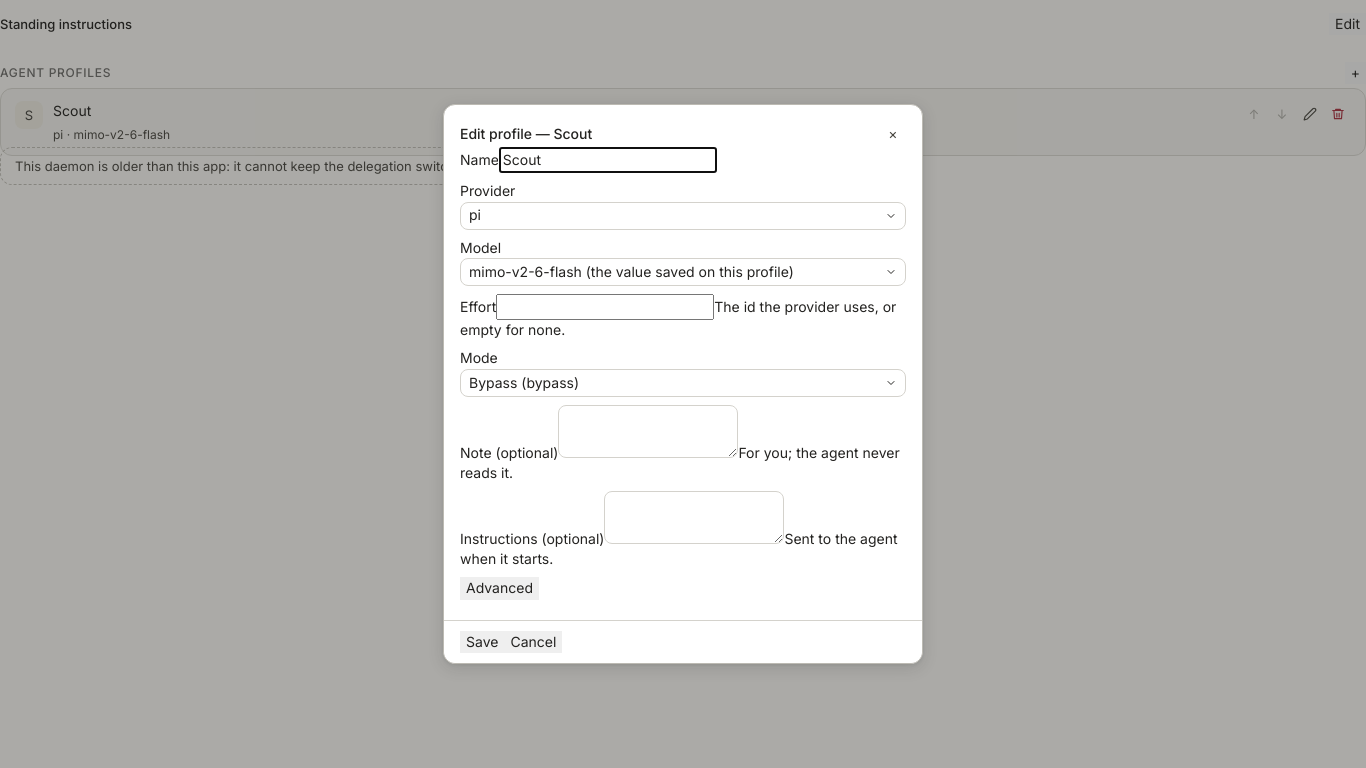
Test: Settings agents panel — profile editor pickers › refuses saving a legacy ambiguous bare id, naming the providers
Click the button "Save": (482, 642) [460,631,504,653]
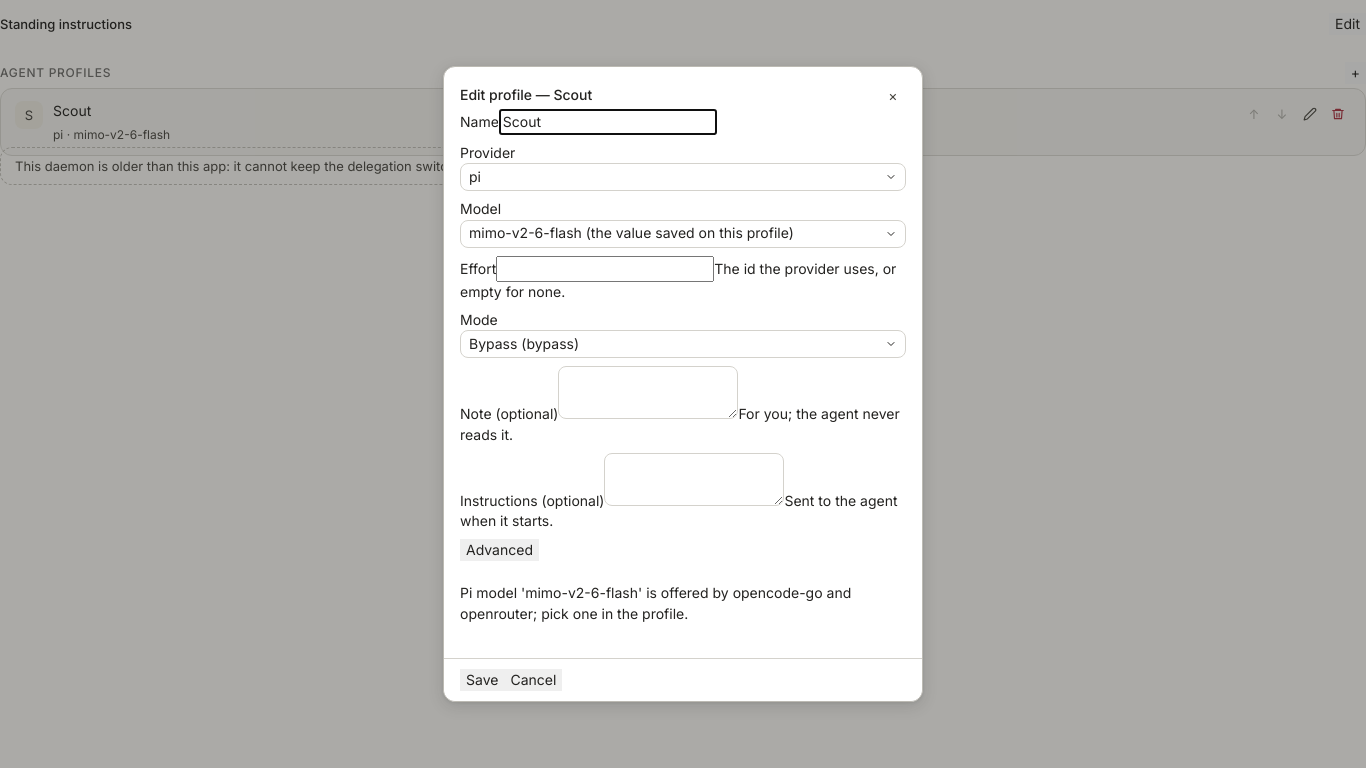
Expected: the message shows "offered by opencode-go and openrouter", [460,584,851,622]
